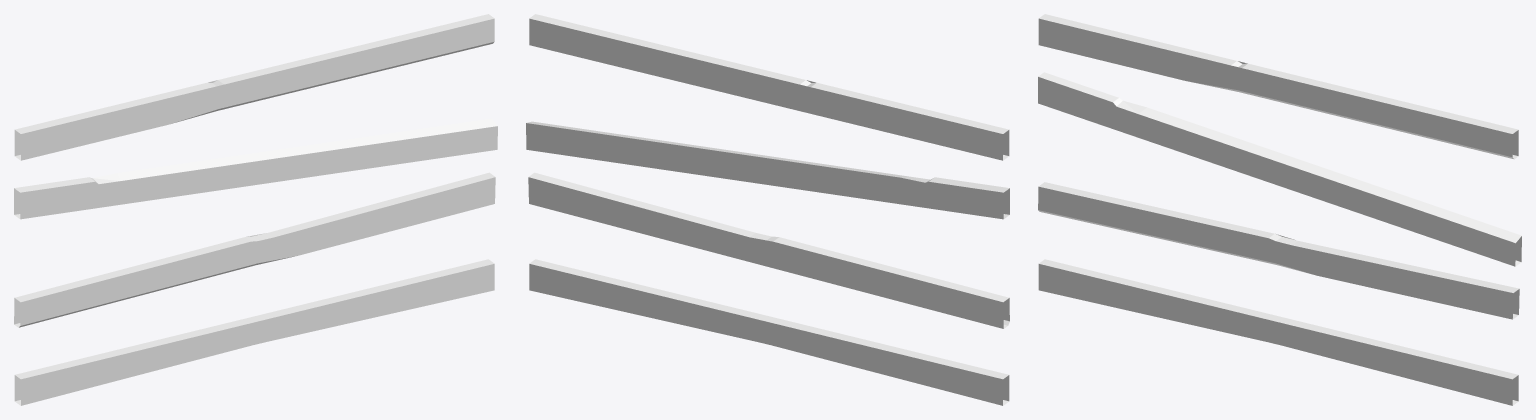
The model's file is Bld_01_Fence_Wood_Worned_01.glb.
3 views of the same model, side by side, from view 1: azimuth 30°, elevation 25°; view 2: azimuth 150°, elevation 25°; view 3: azimuth 330°, elevation 25° (orthographic).
Visible parts, largest first — view 1: Bld_01_Fence_Wood_Worned_01; view 2: Bld_01_Fence_Wood_Worned_01; view 3: Bld_01_Fence_Wood_Worned_01.
Boxes of the visible parts, x1,y1,x2,y2 form: Bld_01_Fence_Wood_Worned_01: [14, 14, 497, 405]; Bld_01_Fence_Wood_Worned_01: [526, 14, 1009, 405]; Bld_01_Fence_Wood_Worned_01: [1038, 14, 1521, 405].
Size of the model in its own units: 1.81 by 0.9865 by 0.0408.
Materials: 1 (1 with a texture image).
